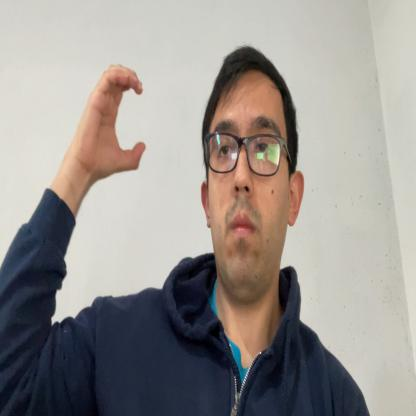C: (86, 63, 146, 176)
